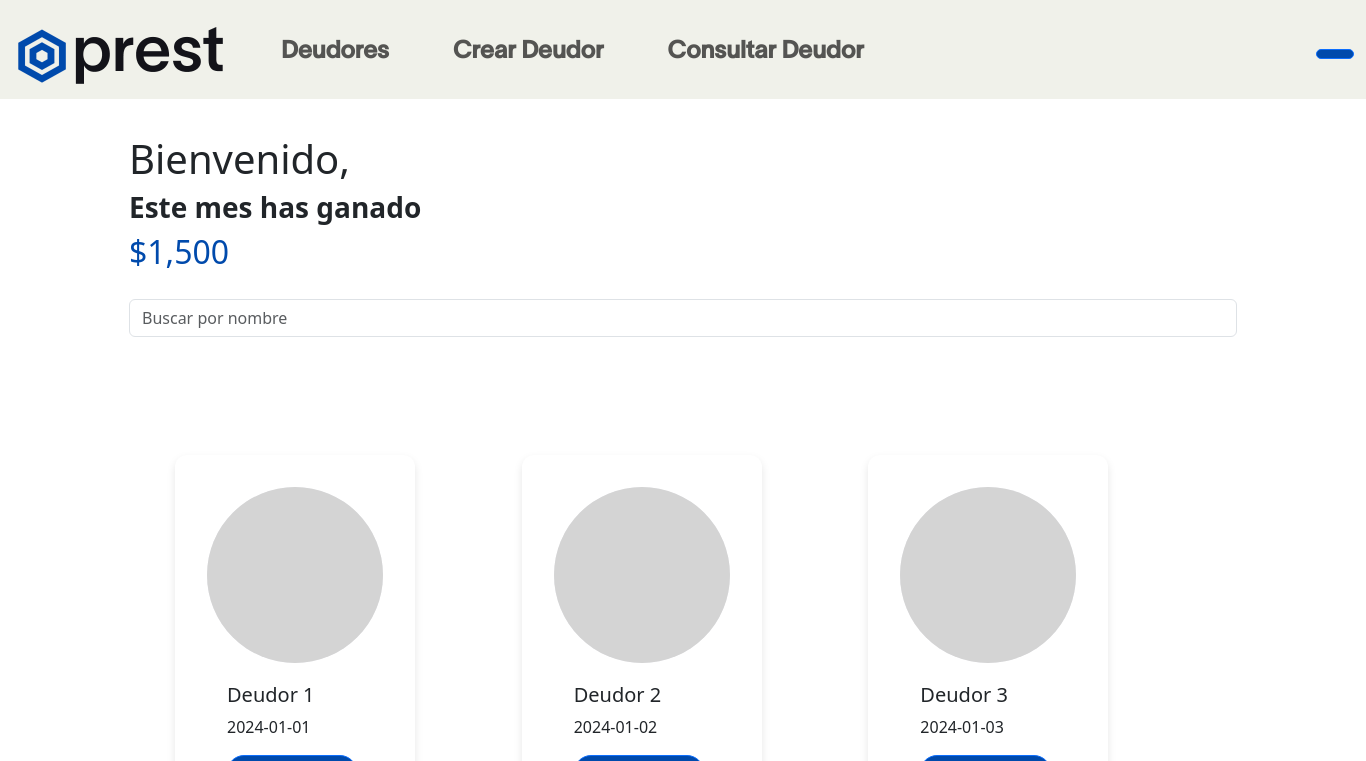
it: Deudores Component › Debe filtrar deudores correctamente
Buscar "Deudor 3"
In the field with placeholder "Buscar por nombre": coordinates (683, 318) x1=129 y1=299 x2=1237 y2=337, type "Deudor 3"
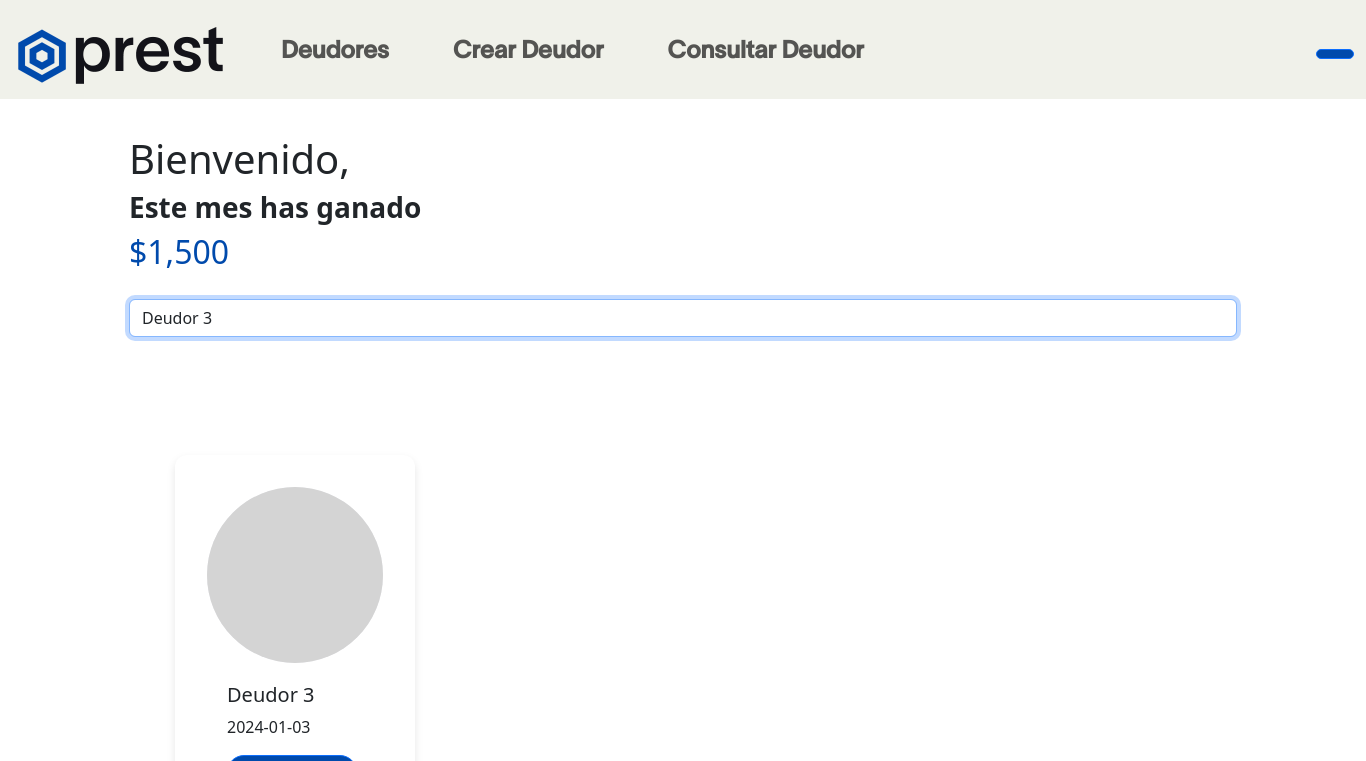
expect the heading "Deudor 3" is shown: met, box x1=227 y1=681 x2=314 y2=708
expect the heading "Deudor 1" is gone: met
